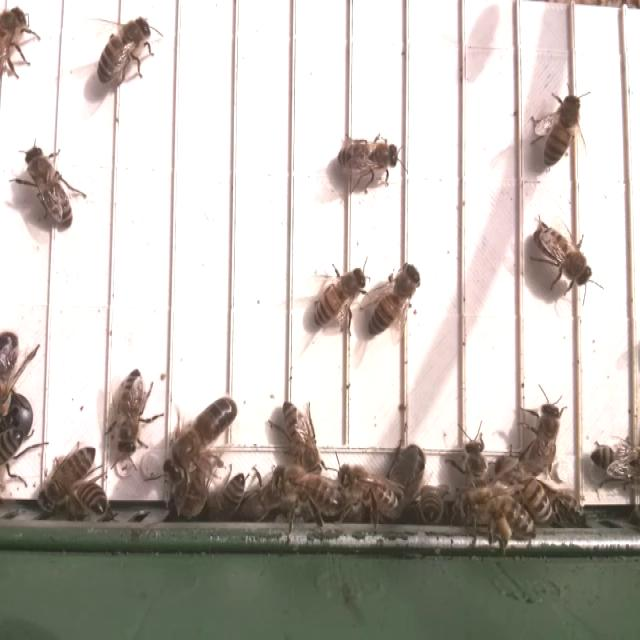Drone: (159, 391, 238, 487)
Worker: (367, 258, 424, 342), (95, 12, 153, 92), (24, 143, 75, 232), (531, 222, 594, 291), (38, 442, 98, 510), (277, 396, 325, 479), (312, 266, 367, 334), (540, 90, 584, 171), (523, 396, 562, 486), (113, 364, 147, 461), (332, 133, 401, 180)
